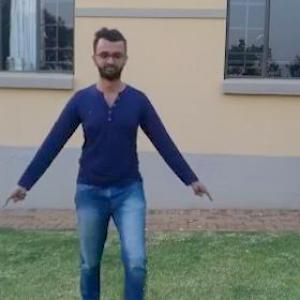land: (26, 49, 189, 296)
